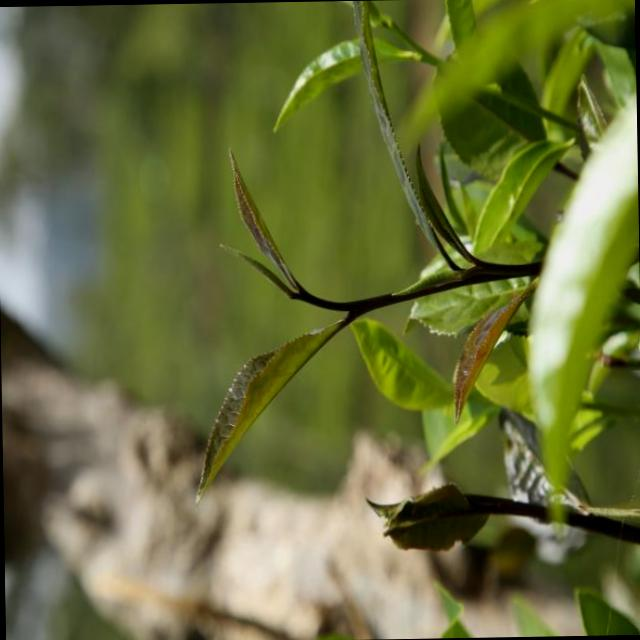Stem: (349, 300, 363, 313)
